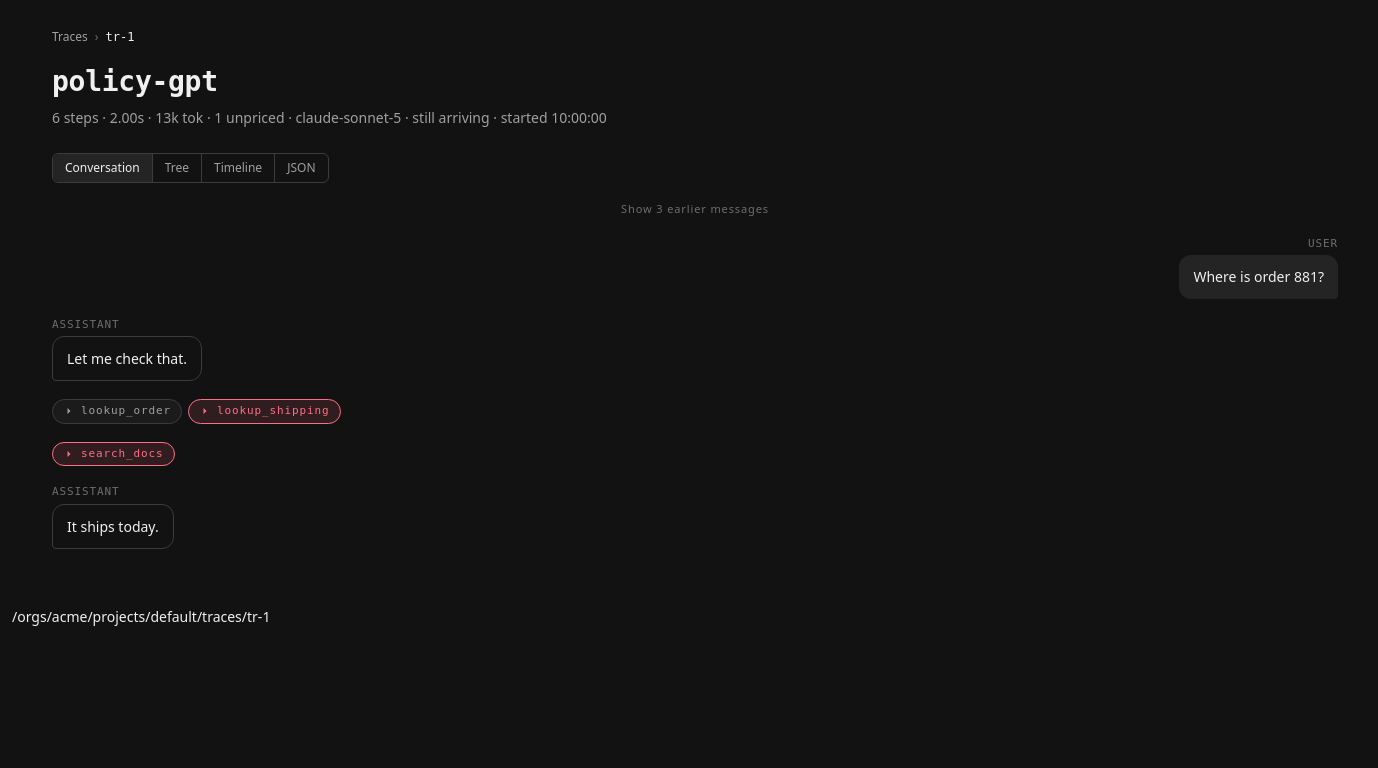
Conversation › folds the earlier history, and shows each message of this turn once, question first and answer last
The image size is (1378, 768).
expect the text "Where is order 881?" is shown once: met, box 1193,266 -> 1324,289
expect the text "It ships today." is shown once: met, box 67,515 -> 159,538
Click the button "Show 3 earlier messages" at (695, 210), box 621,202 -> 769,218
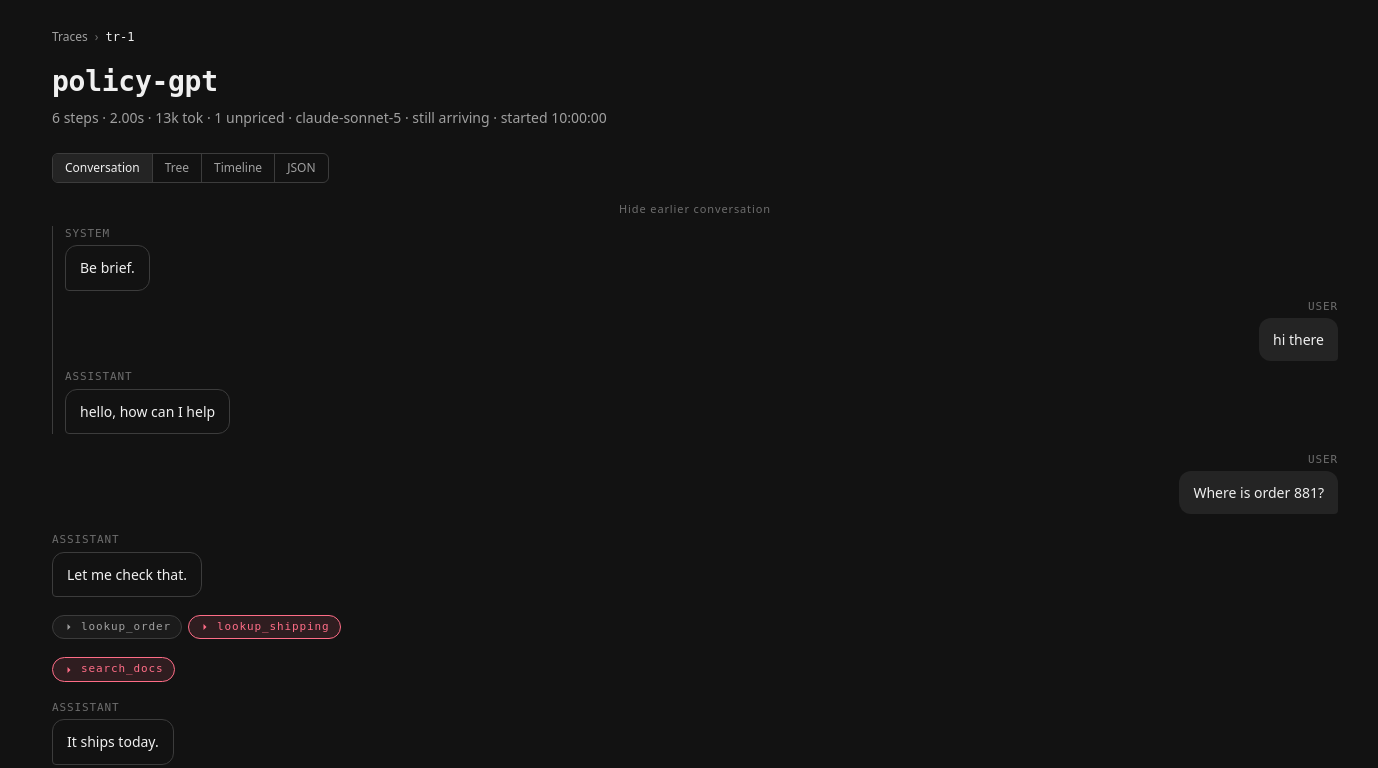
expect the text "hi there" is shown: met, box 1273,328 -> 1324,351
expect the text "Be brief." is shown: met, box 80,256 -> 135,280
Click the button "Hide earlier conversation" at (695, 210), box 619,202 -> 771,218
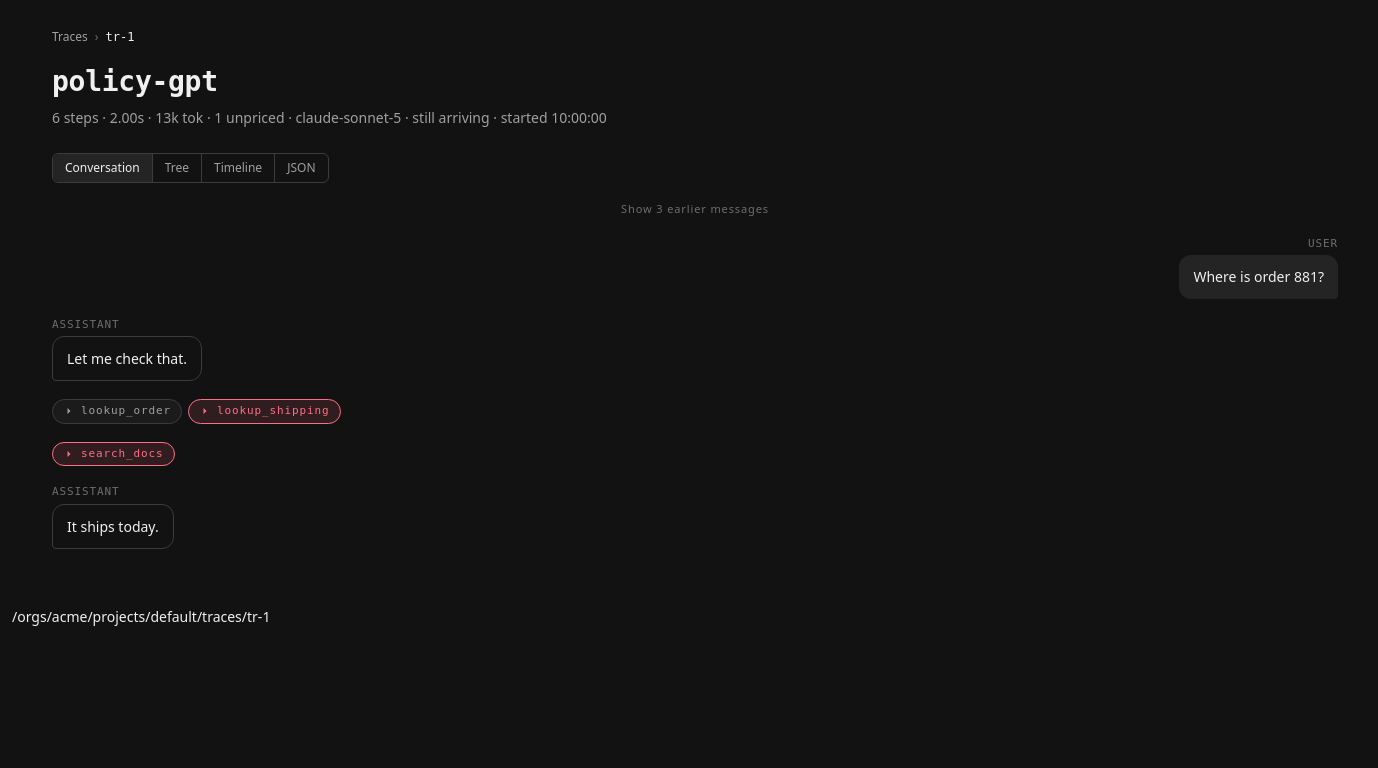
expect the text "hi there" is gone: met
